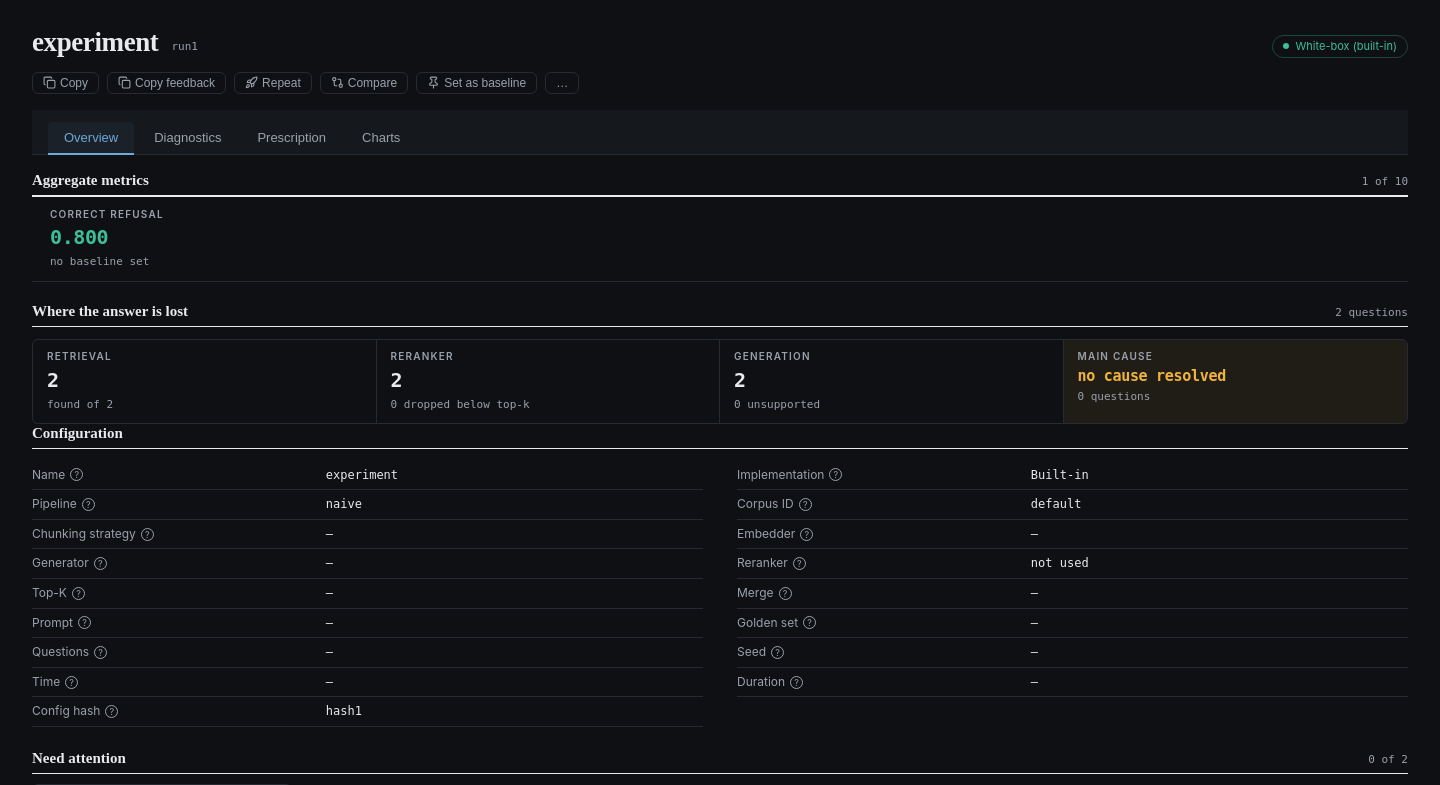
Scenario: RunPage — copy feedback to clipboard › shows the no-feedback state when nothing has been annotated
Click the button "Copy feedback" at (167, 83), box [107, 72, 226, 94]
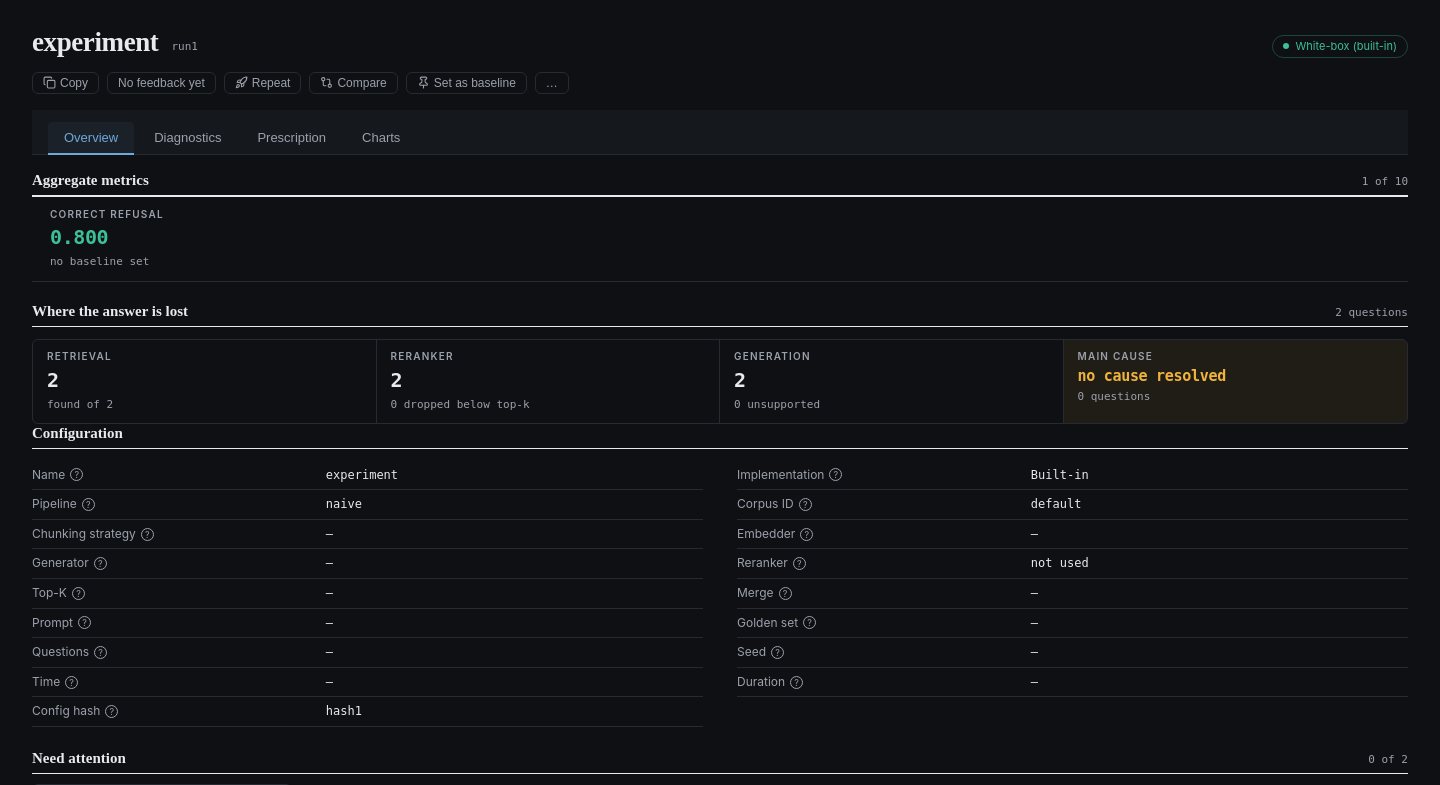
expect the button "No feedback yet" is shown: met, box [107, 72, 216, 94]
